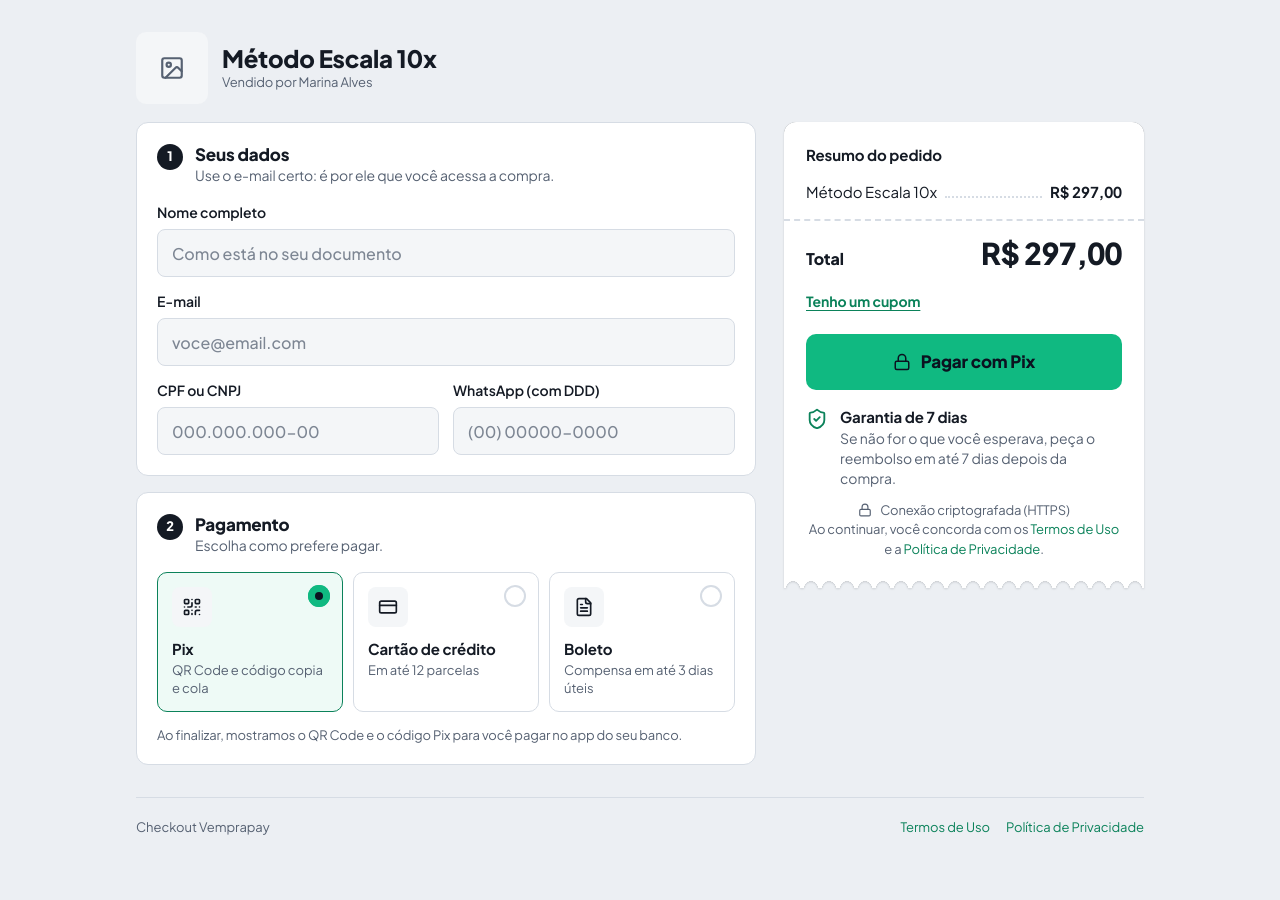
Test case: checkout público: preenchimento › formata CPF e telefone enquanto digita
Expected: the heading "Método Escala 10x" is shown, [222, 43, 437, 73]
Type "52998224725" into the field labelled "CPF ou CNPJ".
click(298, 431); type("52998224725")  # box [157, 407, 439, 455]
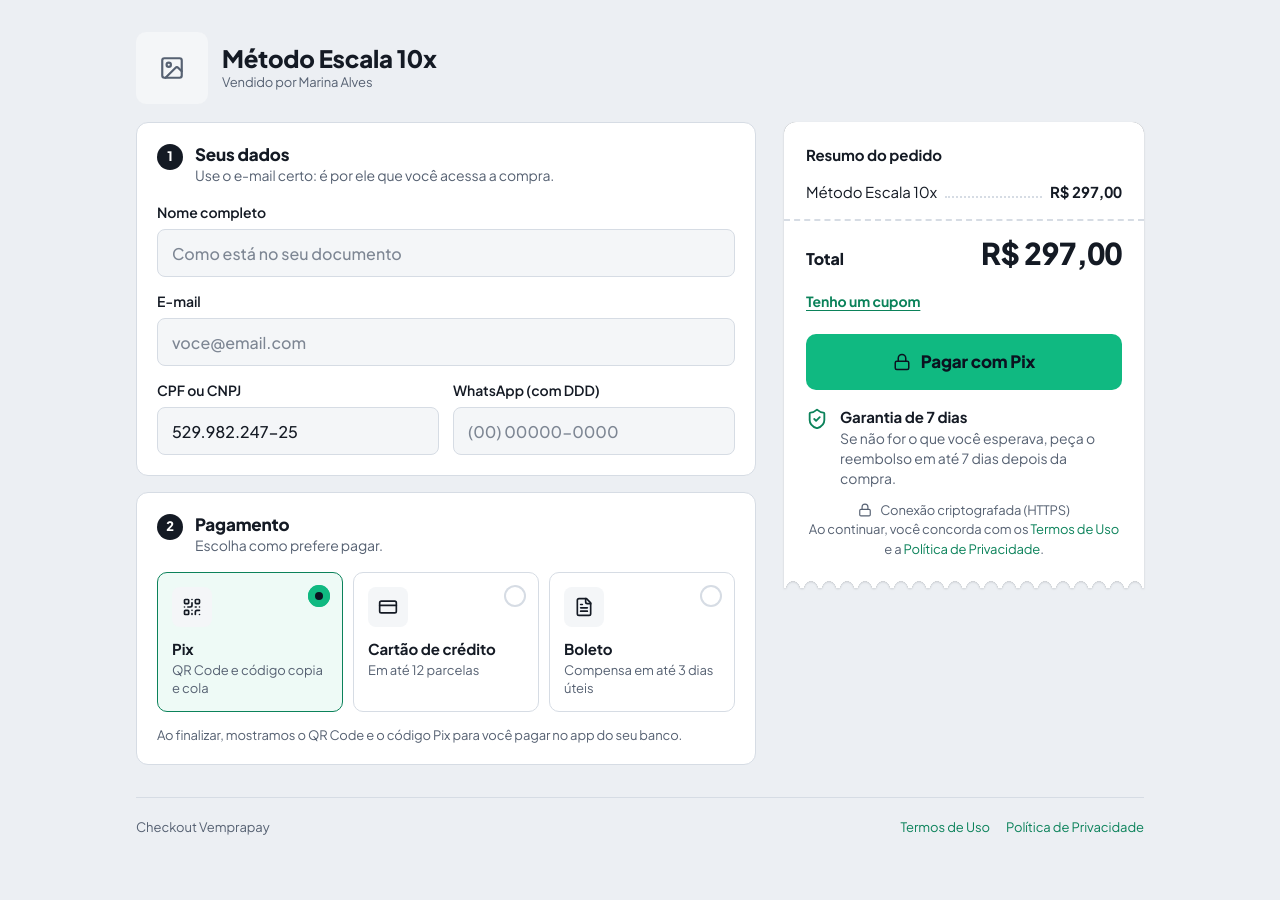
Type "44999991234" into the field labelled "WhatsApp (com DDD)".
click(594, 431); type("44999991234")  # box [453, 407, 735, 455]
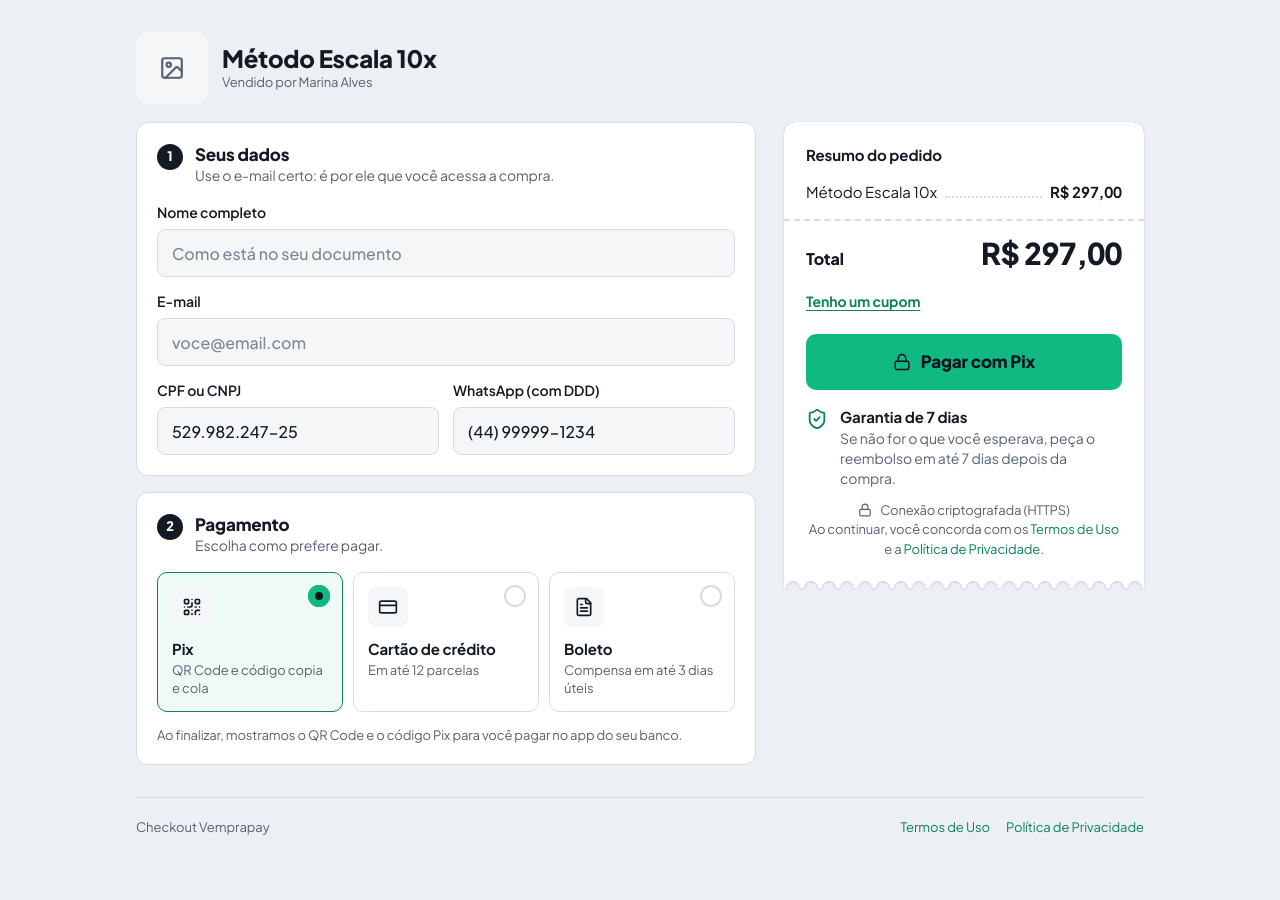
Now the field labelled "CPF ou CNPJ" holds "529.982.247-25", box [157, 407, 439, 455]
Now the field labelled "WhatsApp (com DDD)" holds "(44) 99999-1234", box [453, 407, 735, 455]
